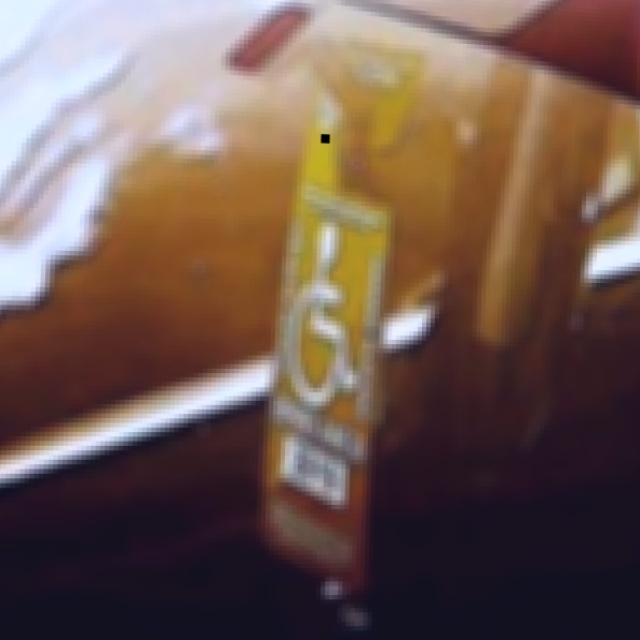ISA: (287, 210, 362, 414)
